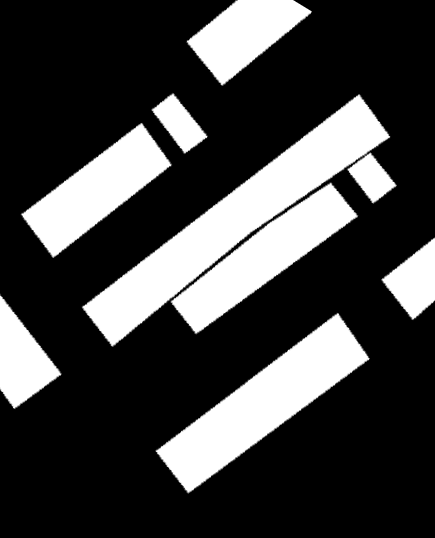parkingspot: (82, 95, 397, 347), (156, 313, 370, 493), (171, 183, 358, 334), (21, 123, 171, 258), (187, 0, 312, 85), (0, 296, 61, 409), (382, 238, 435, 320), (152, 94, 207, 153), (364, 153, 368, 157)
